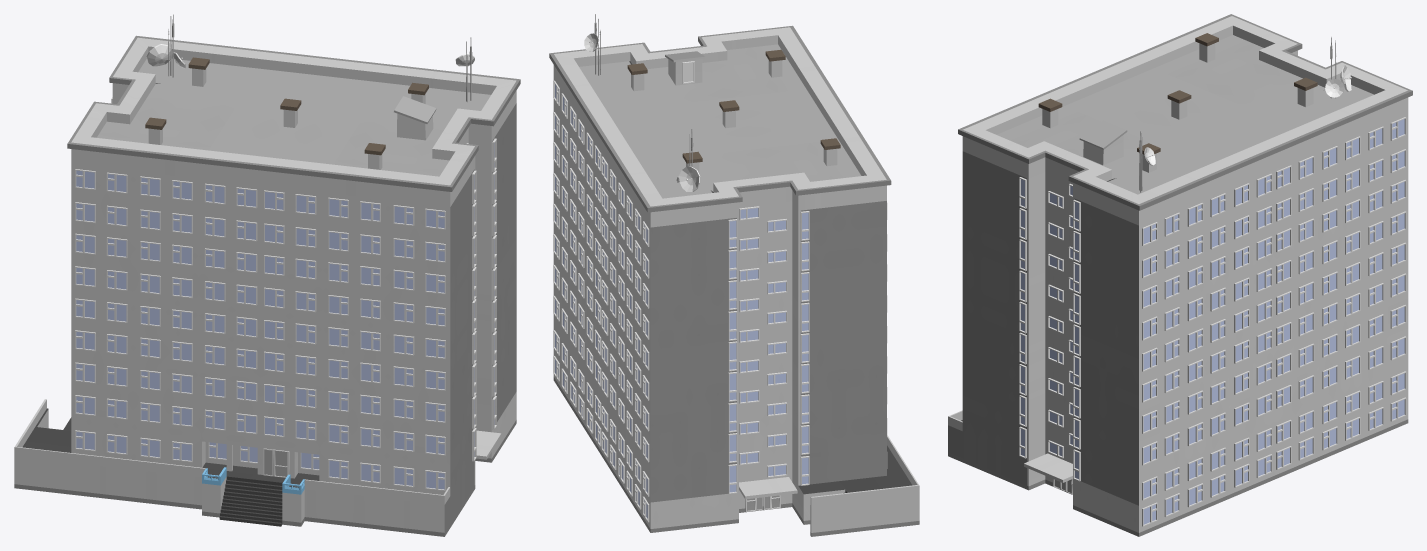
File: Dormitory_4.FBX
3 renders of one model, left to right at view 1: azimuth 30°, elevation 25°; view 2: azimuth 150°, elevation 25°; view 3: azimuth 270°, elevation 25°, orthographic. The views are drawn at different scales.
Visible parts, largest first — view 1: Dormitory_4; view 2: Dormitory_4; view 3: Dormitory_4.
Boxes of the visible parts, bbox=[...] form: Dormitory_4: bbox=[14, 14, 520, 536]; Dormitory_4: bbox=[549, 14, 919, 536]; Dormitory_4: bbox=[948, 14, 1412, 536].
Bounding box in the file's own units: 3957 × 3351 × 3670.
